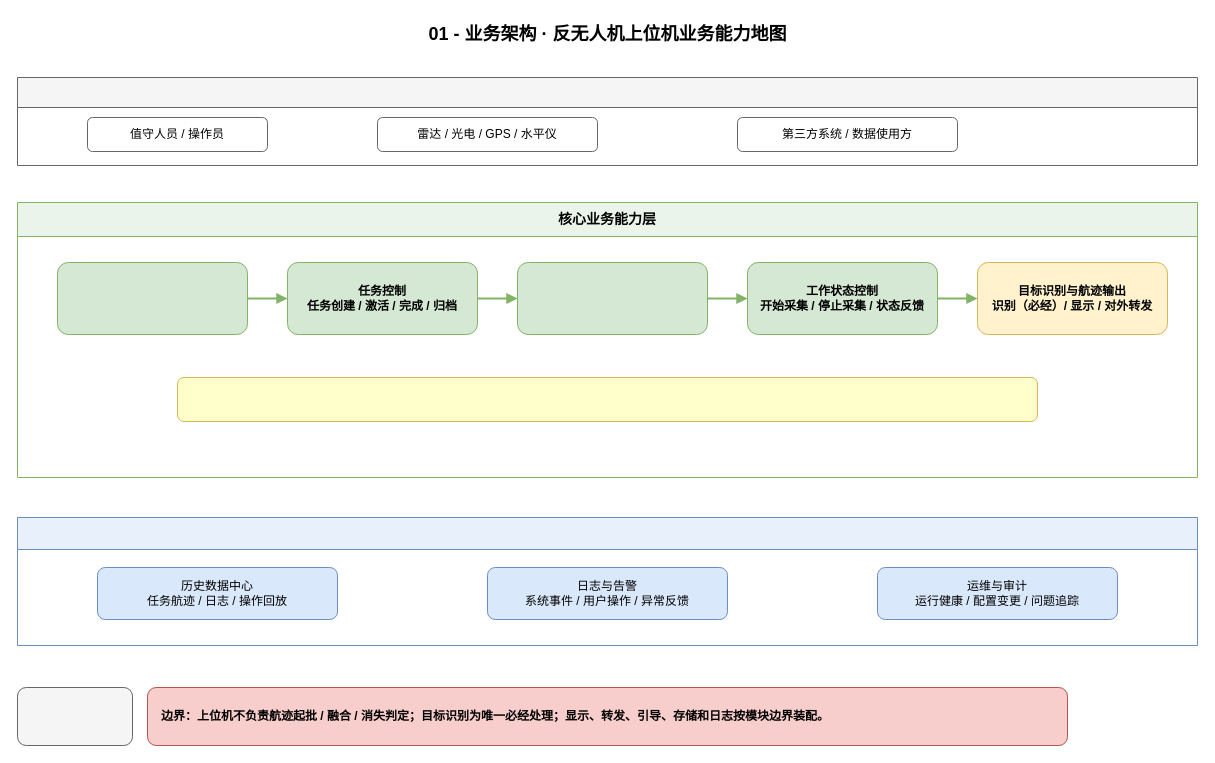
Some shapes in this 1215 by 763 pixel diagram are drawn without their labels. Each missing label, with the box of its shape:
业务支撑能力层: (16, 516, 1198, 646)
业务架构只表达能力和边界，不表达代码类依赖。: (16, 686, 132, 746)
外部参与方: (16, 76, 1198, 166)
航迹主干：接收 → 标准化 → 目标识别；识别后只分为 UI 显示与对外转发两路: (176, 376, 1038, 422)
设备资源管理 设备台账 / 端点绑定 / 运行状态: (56, 262, 248, 334)
运行参数管理 DPH / 阵面 / 工作参数: (516, 262, 708, 334)
